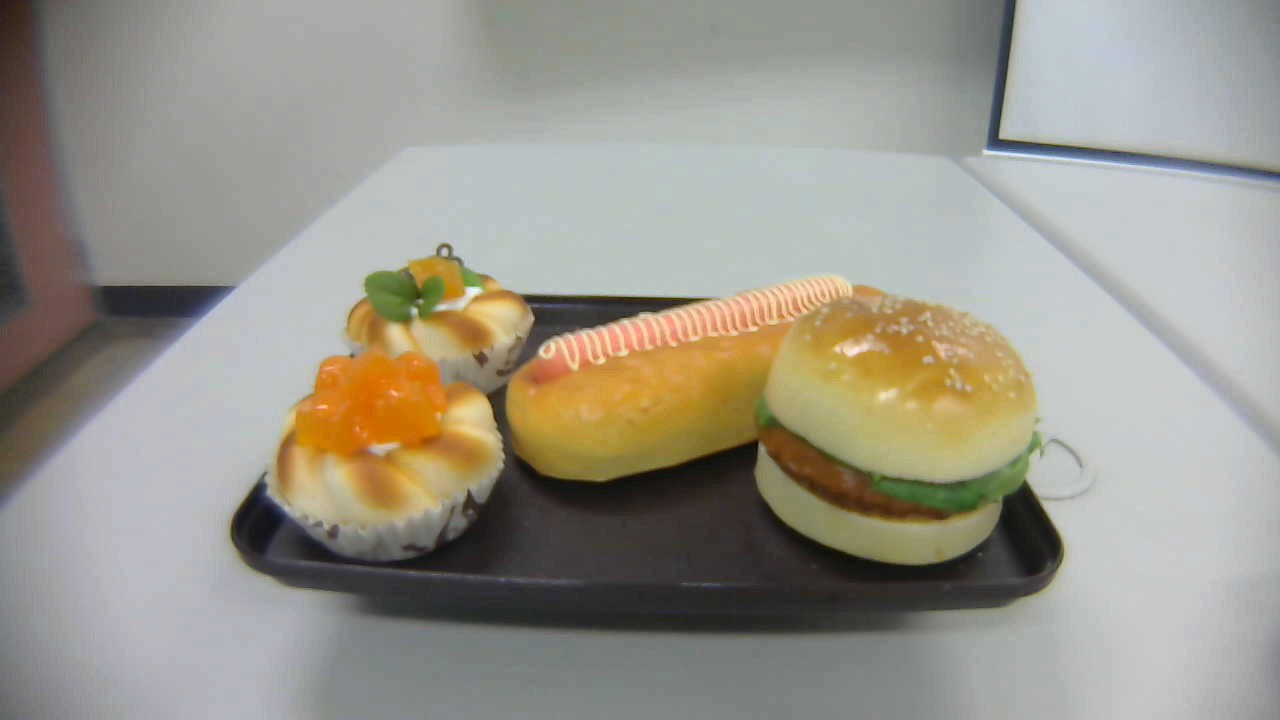fruit tart: (344, 243, 535, 397)
hamburger: (753, 295, 1048, 565)
hot dog: (505, 272, 896, 479)
mango tart: (266, 342, 505, 560)
